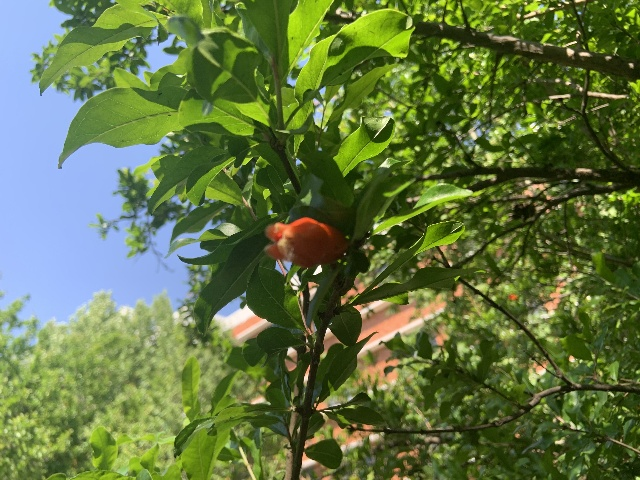flower: (264, 217, 349, 270)
